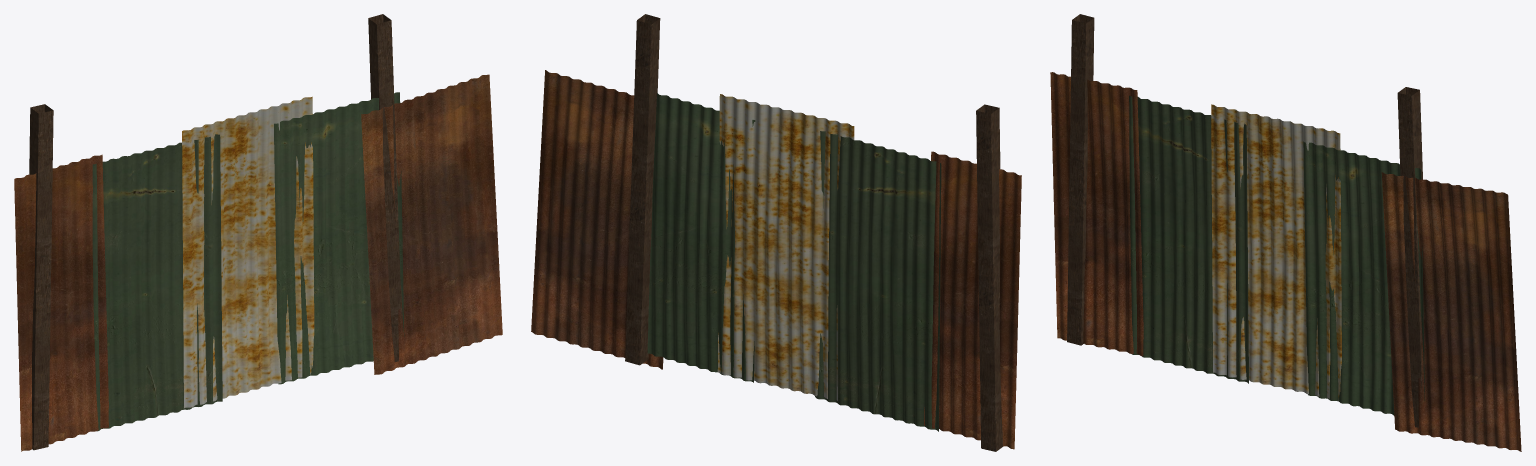
File: sac_cit_b.gltf
3 views of the same model, side by side, from view 1: azimuth 30°, elevation 25°; view 2: azimuth 150°, elevation 25°; view 3: azimuth 330°, elevation 25° (orthographic). The views are drawn at different scales.
Parts seen in each view (by area): view 1: sac_cit_b; view 2: sac_cit_b; view 3: sac_cit_b.
Part boxes in pixels (box(x1,y1,x2,y2)): sac_cit_b: box(14, 14, 502, 451); sac_cit_b: box(531, 14, 1021, 451); sac_cit_b: box(1050, 14, 1521, 451).
Size of what is drawn, in the model's own units: 3.31 by 2.27 by 0.1212.
4 materials, 4 textured.
